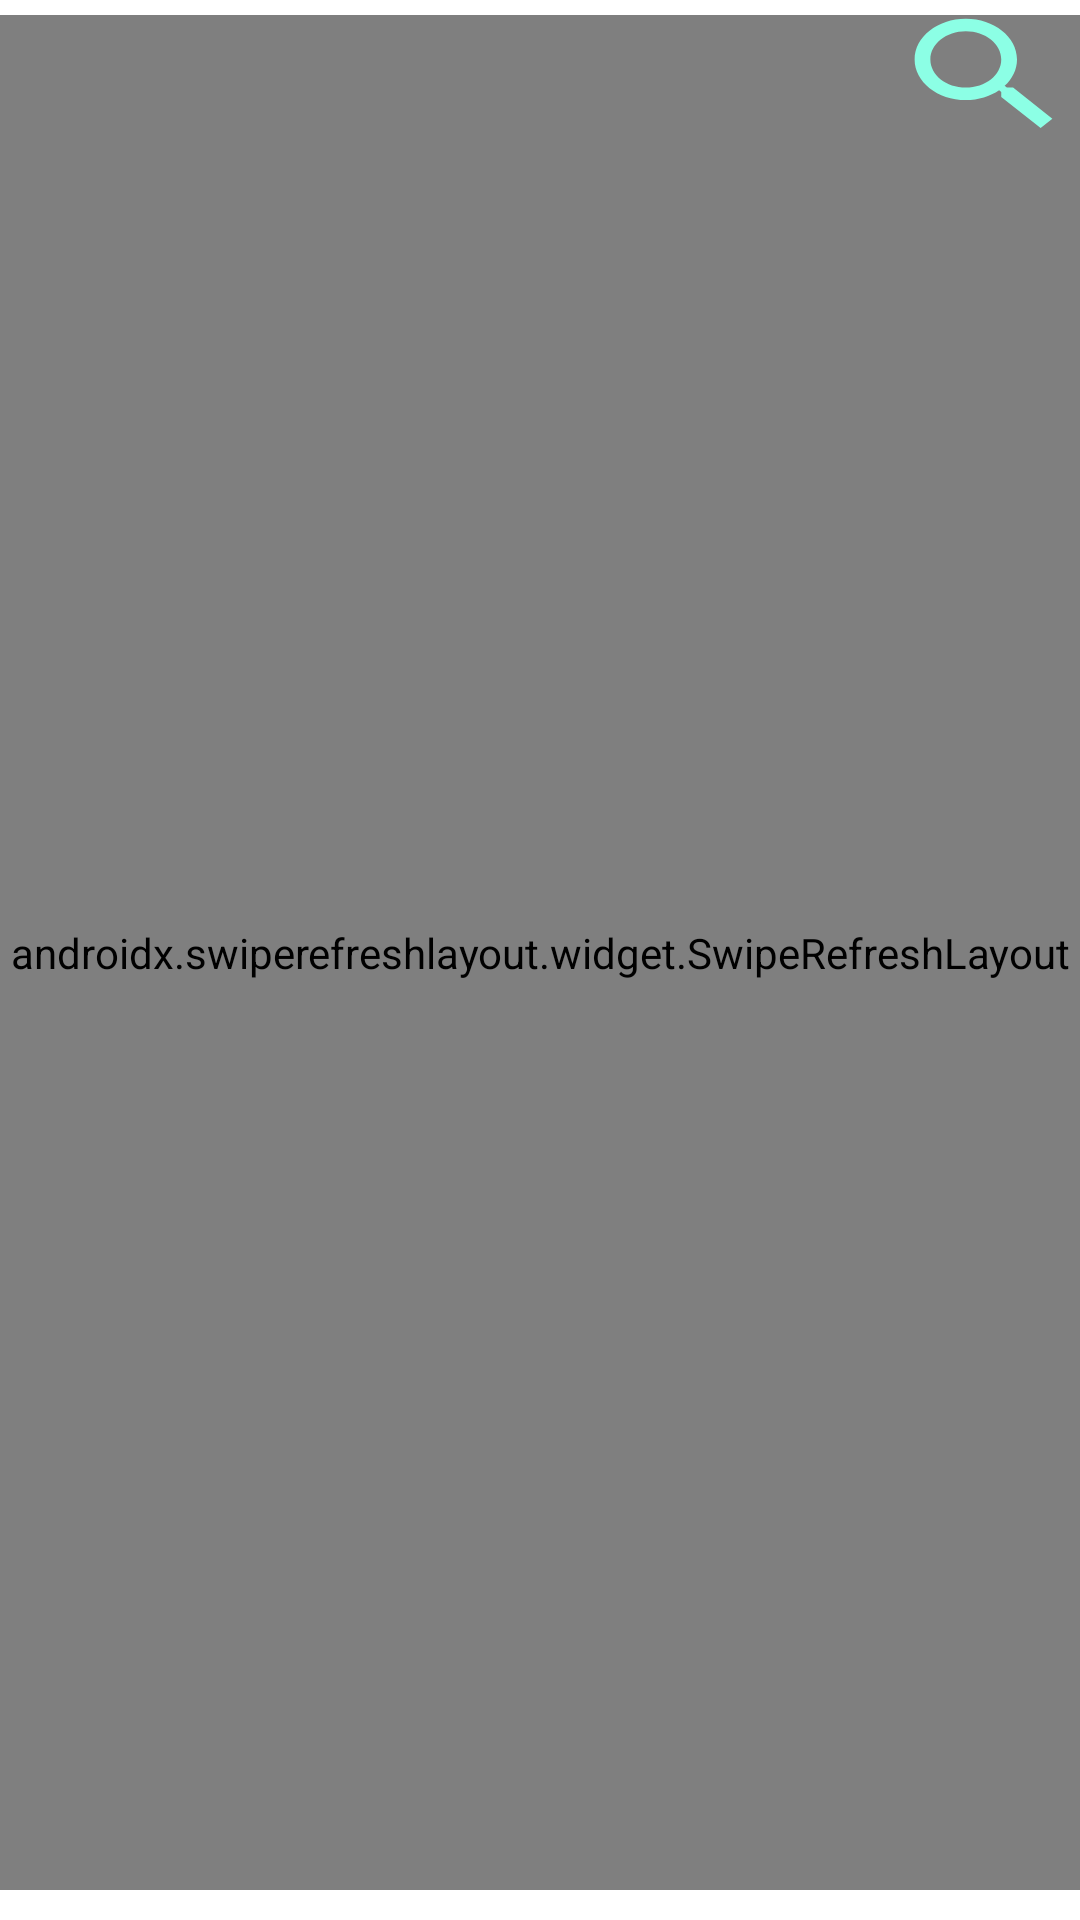

Point at icon controls on the screen. Image size 1080px x 1920px, points as point (x, y).
search: point (983, 73)
